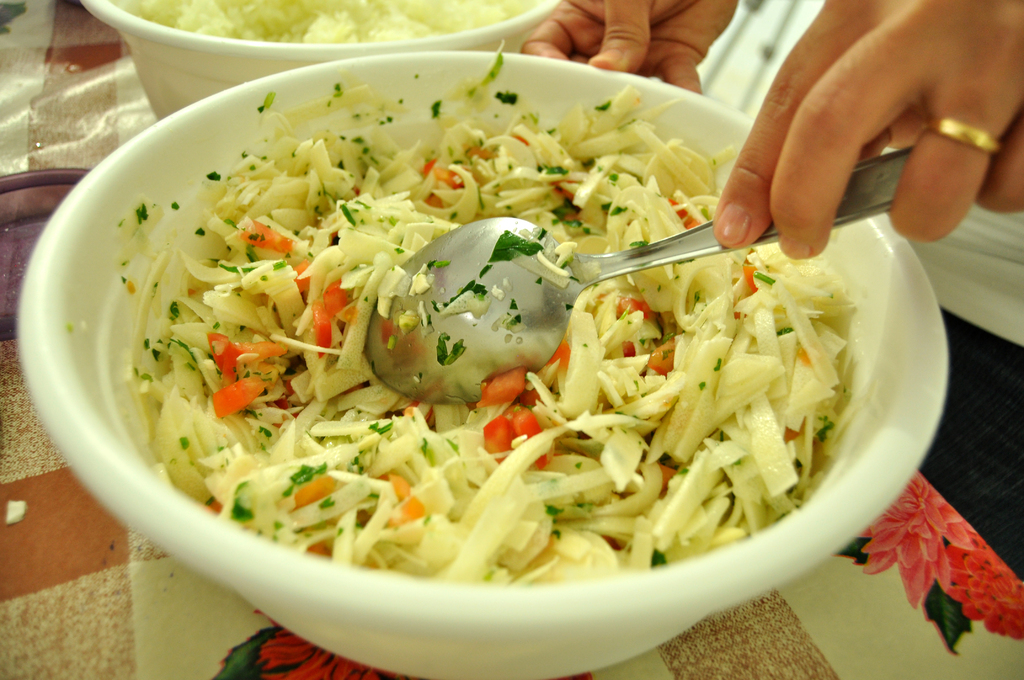Cabbage: (114, 42, 857, 589)
